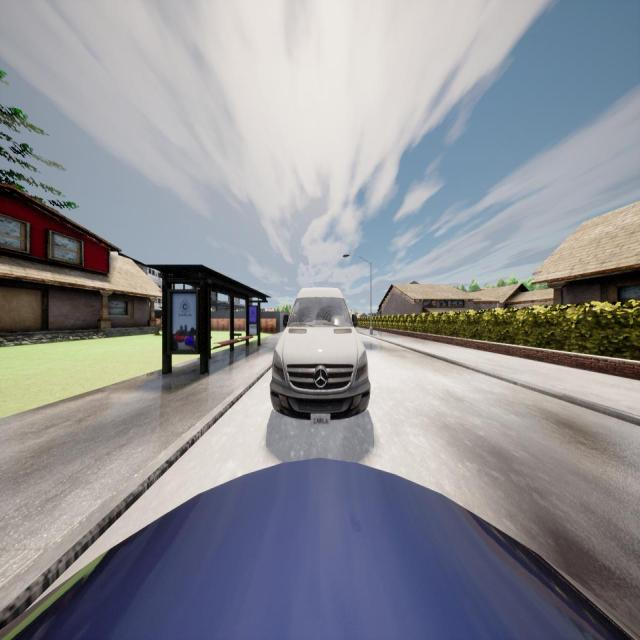Vehicle: (0, 459, 640, 640), (269, 286, 372, 426)
